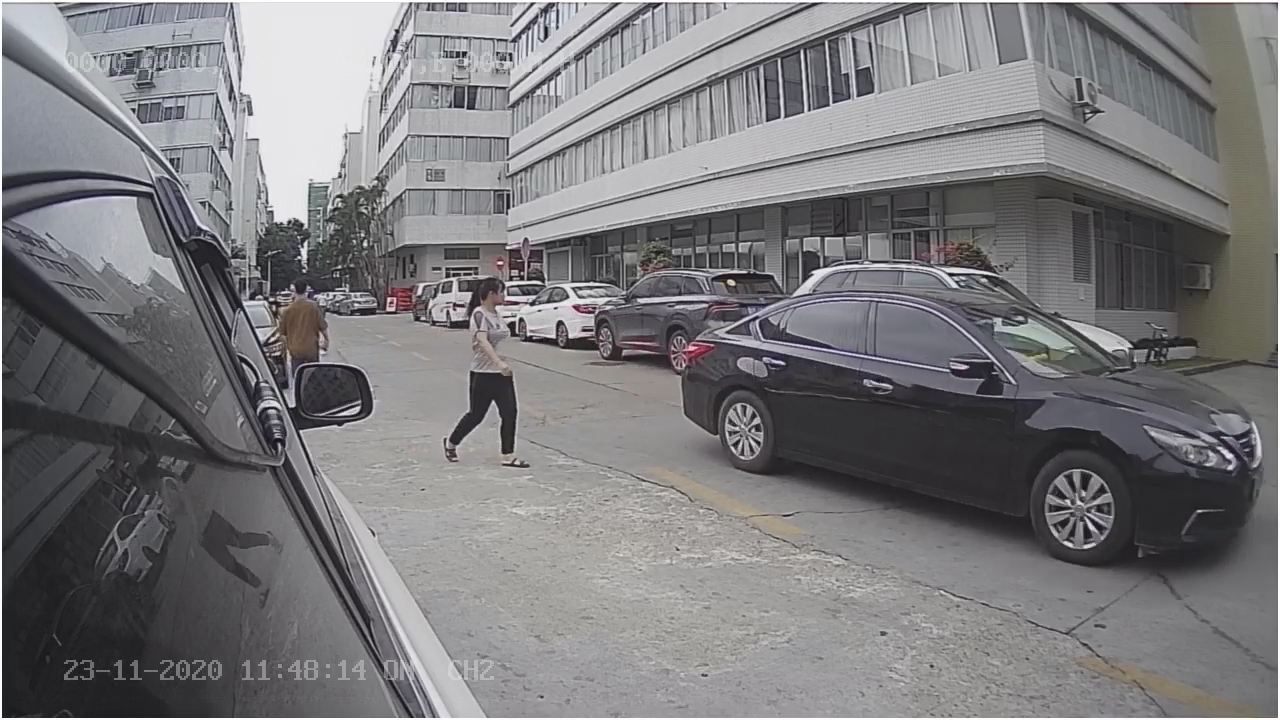person: (439, 274, 524, 468)
